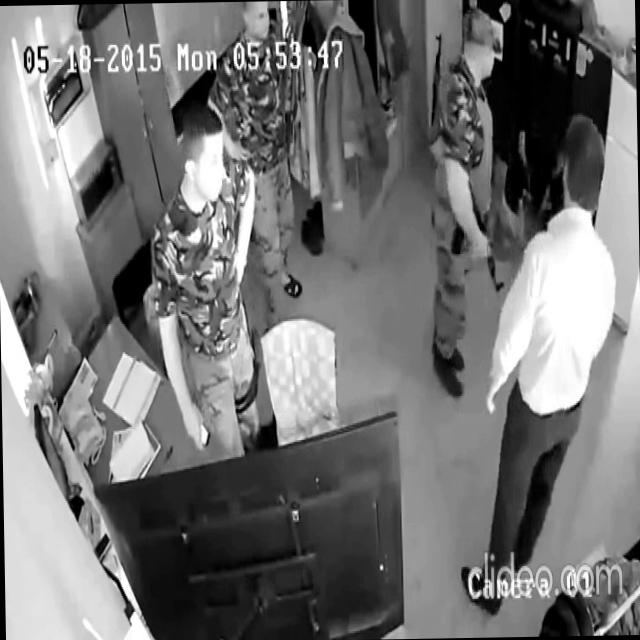gun: (448, 153, 506, 294), (426, 28, 448, 150)
person: (452, 113, 622, 618), (148, 97, 264, 460), (207, 1, 304, 327)
person with a gun: (427, 4, 508, 401)
